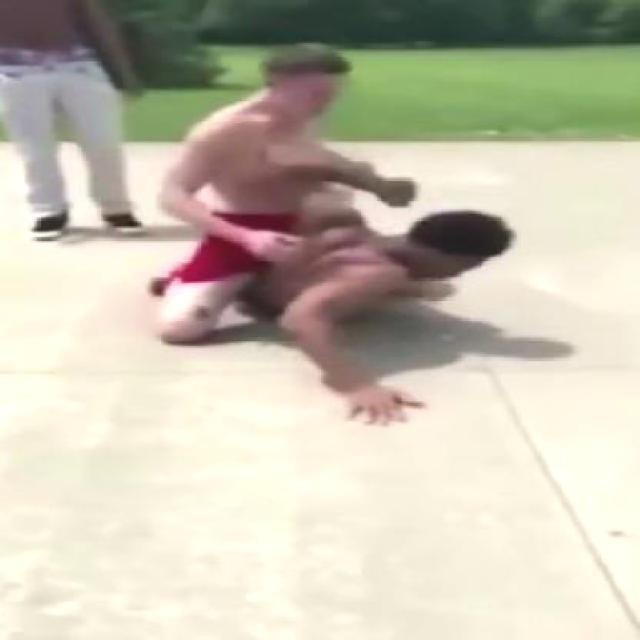fight: (150, 43, 518, 422)
